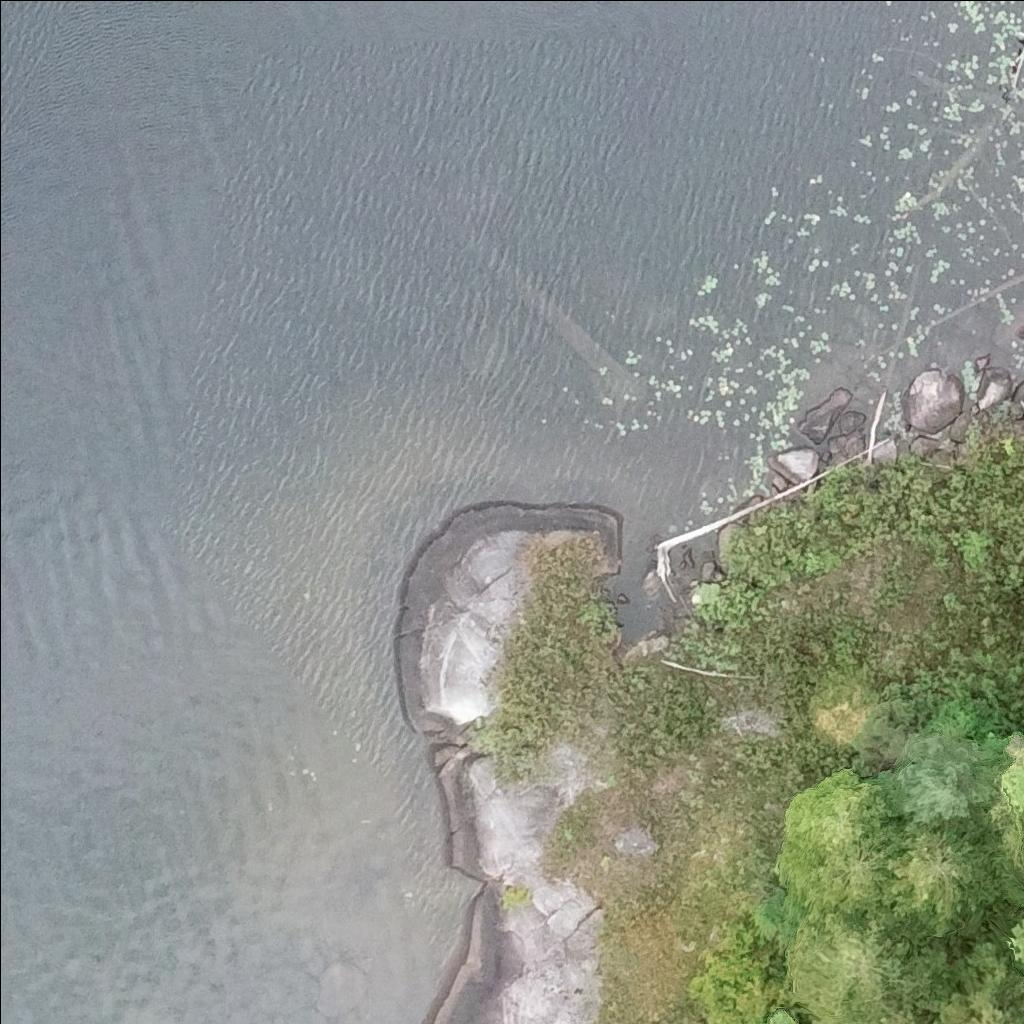crown: (790, 915, 964, 1023), (776, 775, 913, 892), (889, 831, 1021, 938), (792, 845, 911, 941), (898, 732, 998, 828), (930, 976, 1023, 1023), (949, 945, 1014, 994), (1008, 760, 1023, 817), (1012, 918, 1023, 958), (775, 1020, 789, 1023)
